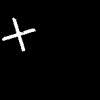single_crochet: (2, 18, 34, 50)
